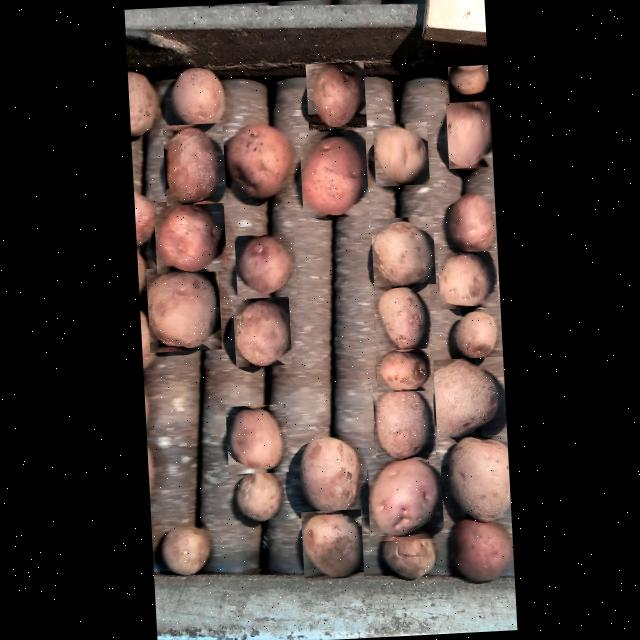Defected potato: (368, 526, 437, 582)
Diseased-fungal potato: (366, 456, 444, 542), (145, 265, 221, 353), (220, 119, 296, 203), (440, 434, 510, 524), (298, 130, 368, 218), (432, 356, 506, 438), (152, 198, 226, 274), (295, 432, 361, 516), (162, 123, 226, 206), (372, 383, 436, 462), (300, 509, 364, 586), (446, 514, 514, 584), (370, 216, 435, 287), (225, 404, 288, 475), (168, 63, 230, 134), (232, 296, 291, 368), (305, 61, 366, 130), (234, 233, 296, 300), (372, 284, 432, 351), (156, 519, 217, 582), (372, 122, 429, 187), (437, 250, 498, 310), (441, 188, 494, 256), (444, 95, 492, 169), (228, 468, 280, 523), (447, 309, 501, 361), (374, 346, 430, 393), (447, 65, 489, 103)
